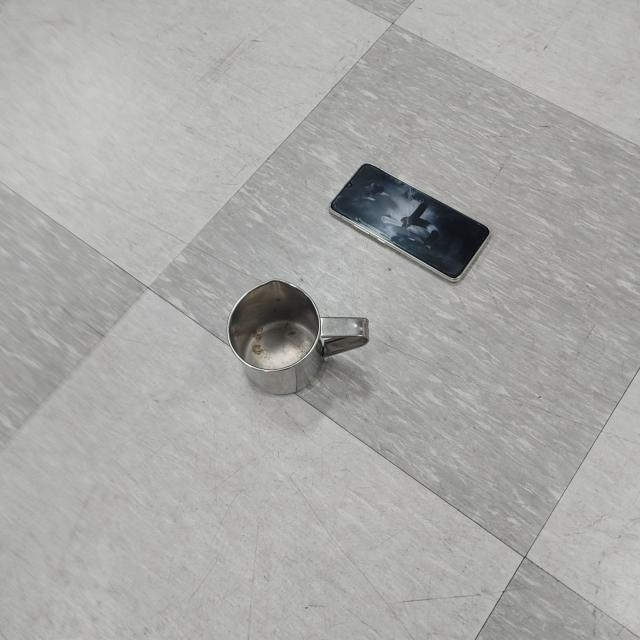cup: (226, 280, 371, 398)
phone: (325, 162, 495, 285)
